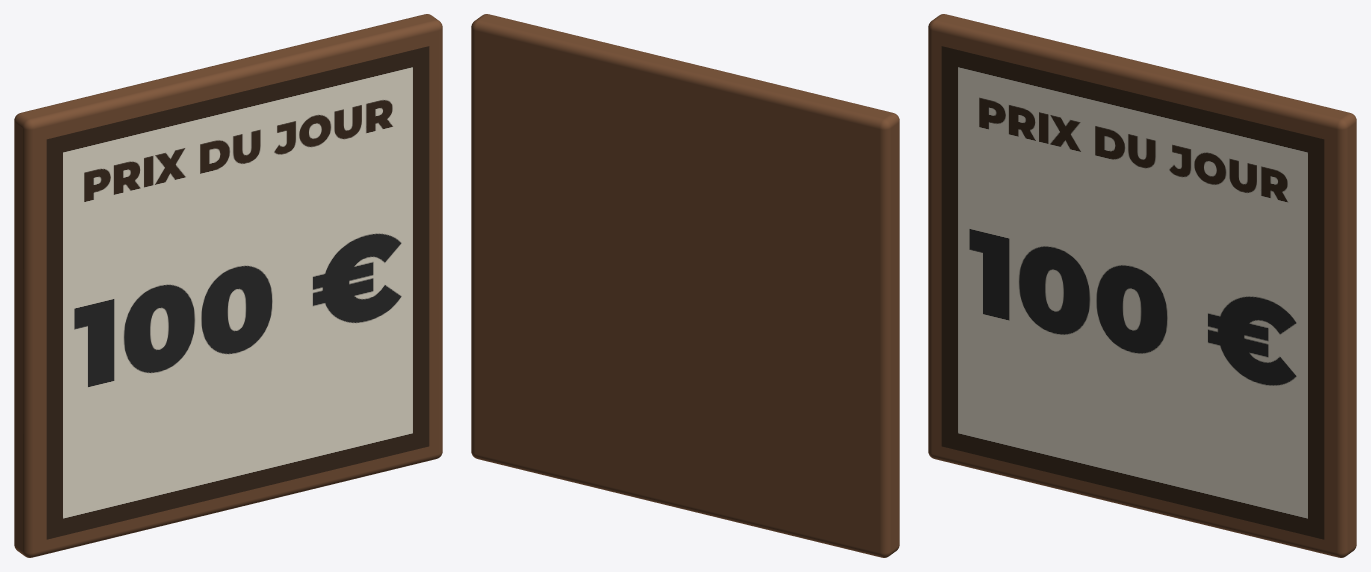
Rendered from panneau_prix.glb.
The picture shows the model from 3 angles, left to right: view 1: azimuth 30°, elevation 25°; view 2: azimuth 150°, elevation 25°; view 3: azimuth 330°, elevation 25°; orthographic projection.
Size of the model in its own units: 4.6 by 4.6 by 0.33.
Materials: 2 (1 with a texture image).
